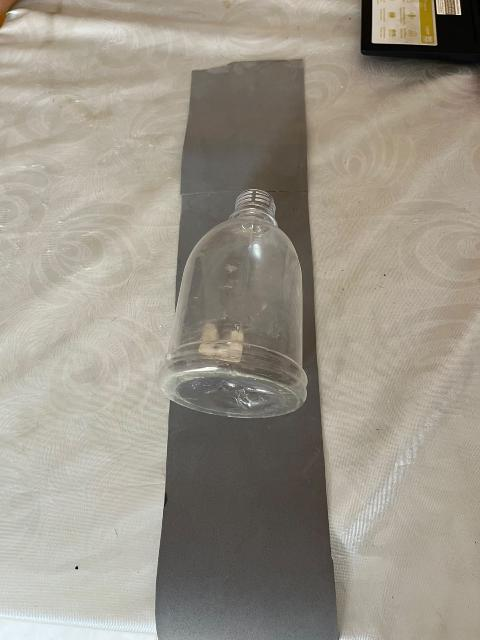PET: (140, 160, 337, 437)
